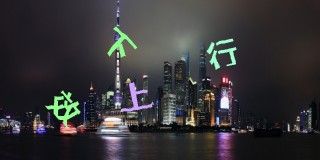上: (119, 81, 156, 113)
下: (107, 27, 137, 61)
效: (46, 90, 82, 128)
行: (204, 37, 239, 71)
